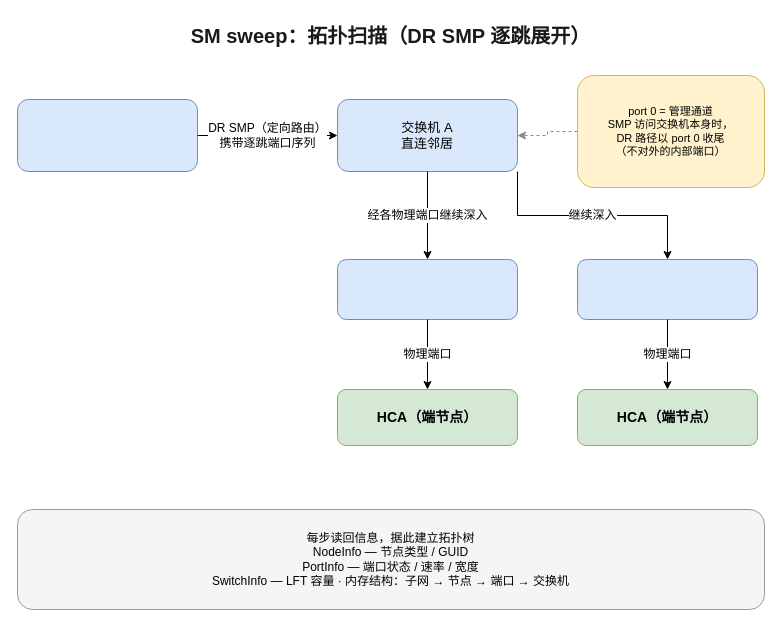
This 782x627 diagram has some shape labels left out. The centre of each missing label's shape, as x and y in pixels:
"SM（子网管理器） 绑定自身 HCA 端口" goes at [107,135].
"交换机 B" goes at [427,289].
"交换机 C" goes at [667,289].
